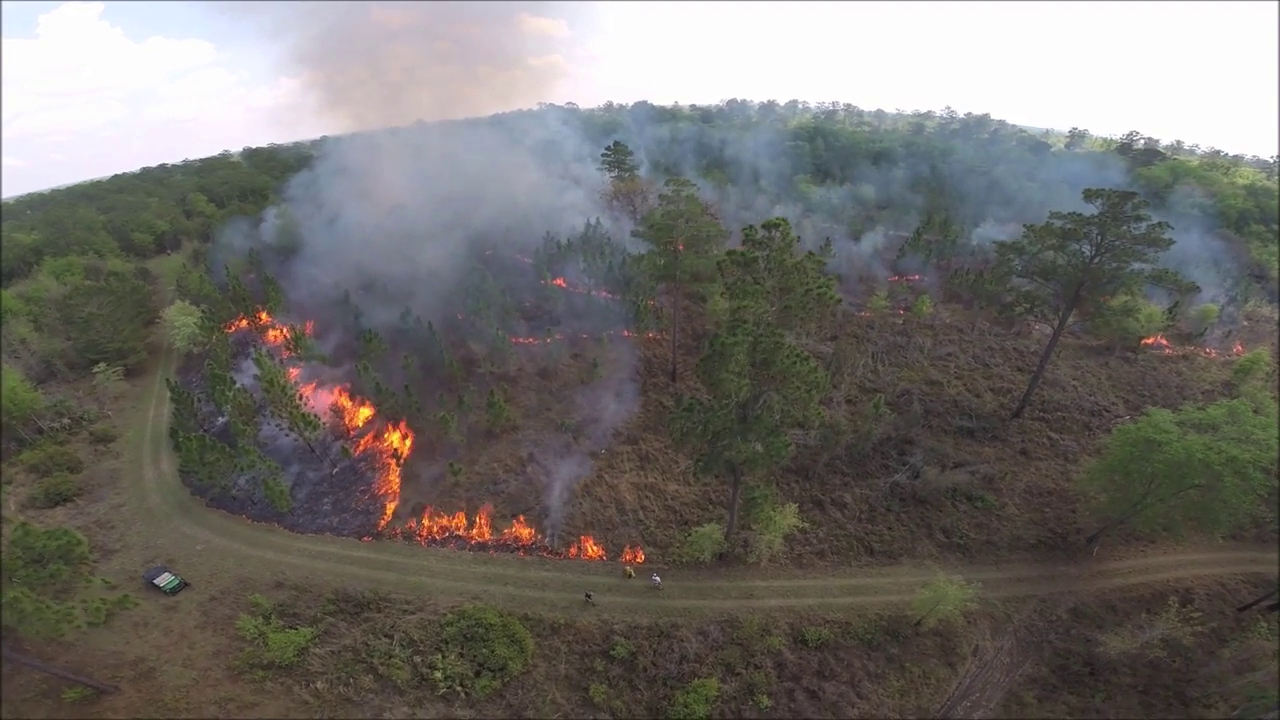forest_fire: (286, 361, 607, 560), (223, 309, 288, 357), (1139, 334, 1245, 356), (618, 545, 644, 562), (620, 330, 646, 336), (303, 320, 312, 334), (529, 337, 559, 340), (511, 337, 523, 343), (366, 535, 372, 538)
